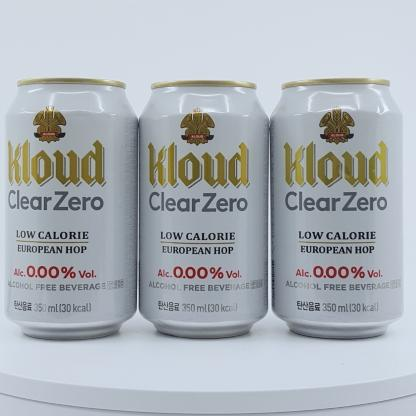--------------350ML: (3, 77, 138, 340), (269, 78, 404, 339), (138, 80, 269, 338)
